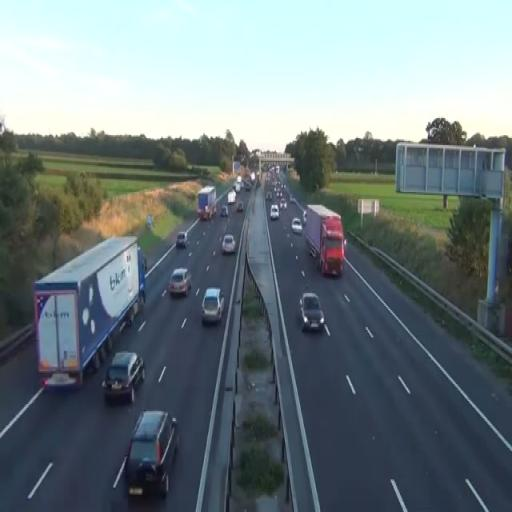Bus: (197, 186, 217, 221)
Car: (125, 410, 179, 498), (102, 351, 146, 404), (299, 292, 324, 332), (200, 287, 224, 325), (168, 268, 192, 298), (222, 234, 236, 254), (176, 231, 189, 248), (292, 217, 302, 235), (270, 204, 280, 220), (220, 204, 228, 218)
Truck: (32, 234, 147, 390), (304, 204, 346, 278), (197, 186, 217, 221)
